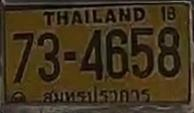3: (37, 32, 59, 81)
4: (80, 28, 102, 79)
5: (130, 26, 153, 78)
6: (105, 28, 128, 78)
7: (12, 32, 33, 82)
8: (157, 26, 180, 76)
SPK: (41, 86, 152, 104)
